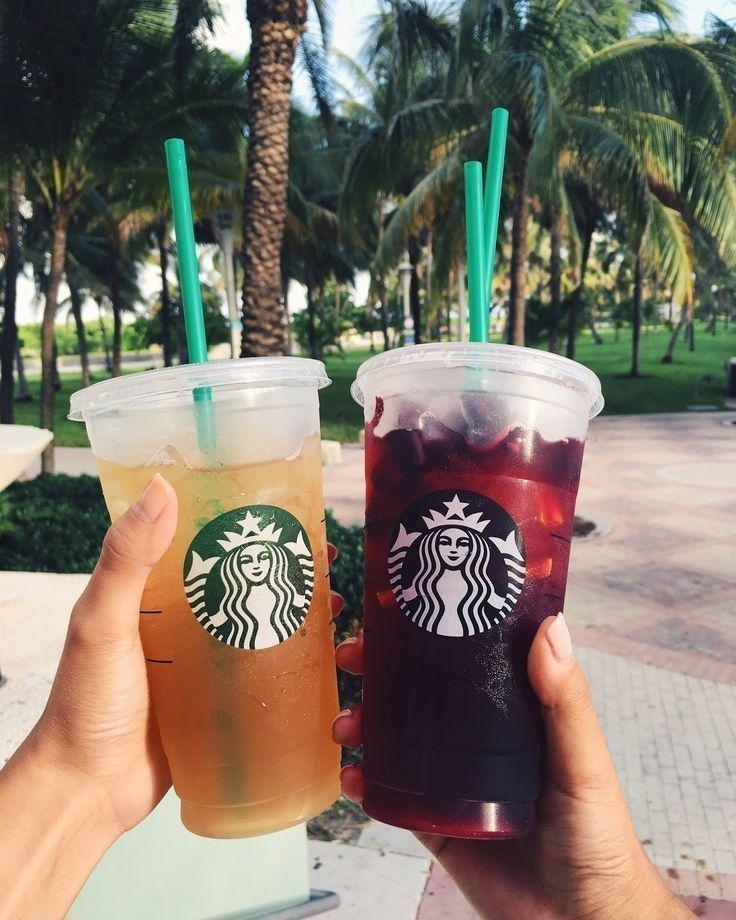cup-disposable: (67, 355, 343, 840), (347, 337, 604, 843)
